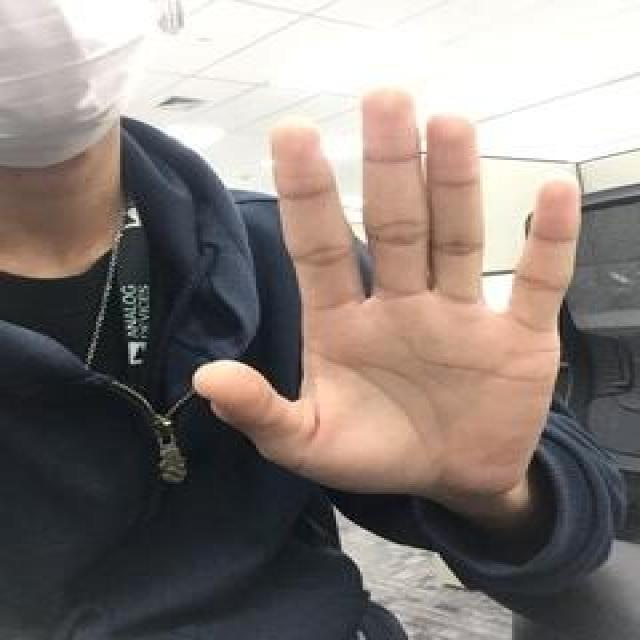no-gloves: (194, 78, 582, 498)
